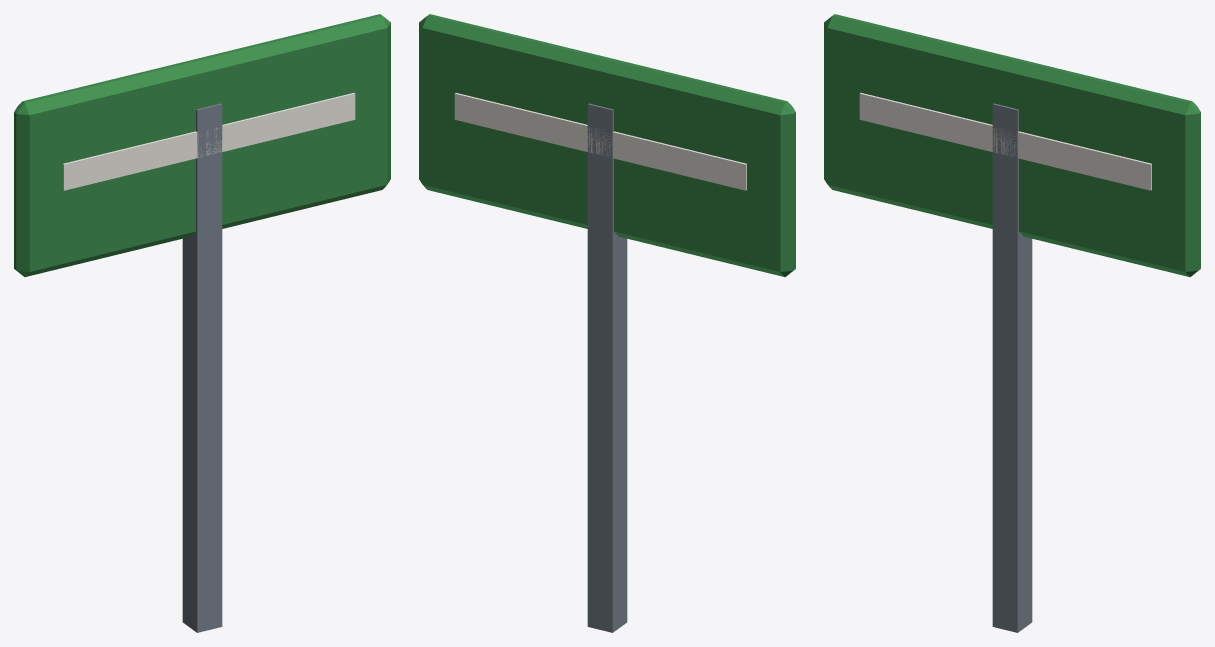
The model's file is sign_post.glb.
3 renders of one model, left to right at view 1: azimuth 30°, elevation 25°; view 2: azimuth 150°, elevation 25°; view 3: azimuth 330°, elevation 25°, orthographic.
Visible parts, largest first — view 1: sign_post; view 2: sign_post; view 3: sign_post.
Boxes of the visible parts, box(x1,y1,x2,y2) form: sign_post: box(14, 14, 390, 632); sign_post: box(419, 14, 795, 632); sign_post: box(824, 14, 1200, 632).
Size of the model in its own units: 0.9 by 1.3 by 0.06.
1 material, 1 textured.
